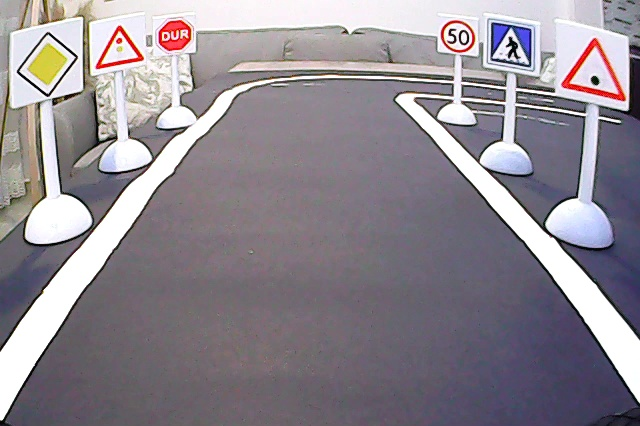green light: (561, 23, 630, 111)
pedestrian crossing: (486, 15, 537, 73)
red light: (92, 21, 145, 70)
speed limit 50: (440, 14, 478, 54)
stop sign: (156, 16, 195, 53)
